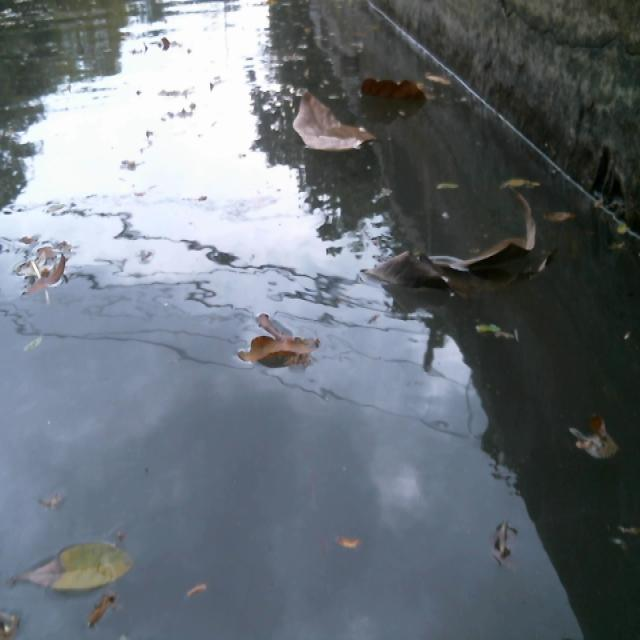Big-leaf: (348, 200, 547, 302), (238, 310, 332, 386), (285, 96, 376, 173), (345, 62, 438, 103)
Small-leaf: (12, 530, 138, 594), (560, 409, 640, 478), (12, 252, 73, 301), (472, 322, 532, 368), (339, 522, 382, 578), (497, 169, 555, 208), (547, 201, 595, 244), (172, 575, 225, 610), (88, 594, 124, 626), (430, 62, 460, 99), (432, 166, 459, 202)
